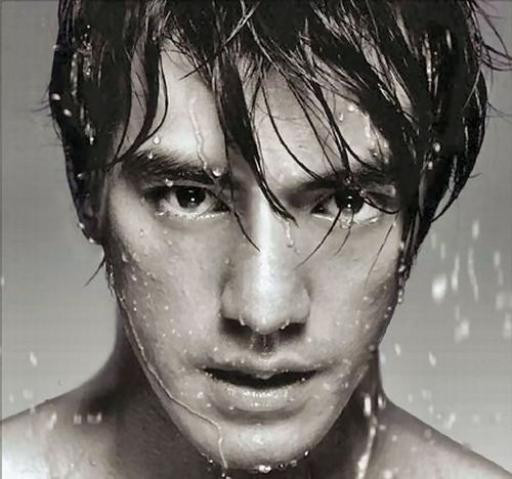left_eye: (316, 187, 393, 224)
left_lip_corner: (307, 358, 333, 386)
right_eye: (146, 183, 236, 225)
right_lip_corner: (194, 359, 219, 385)
